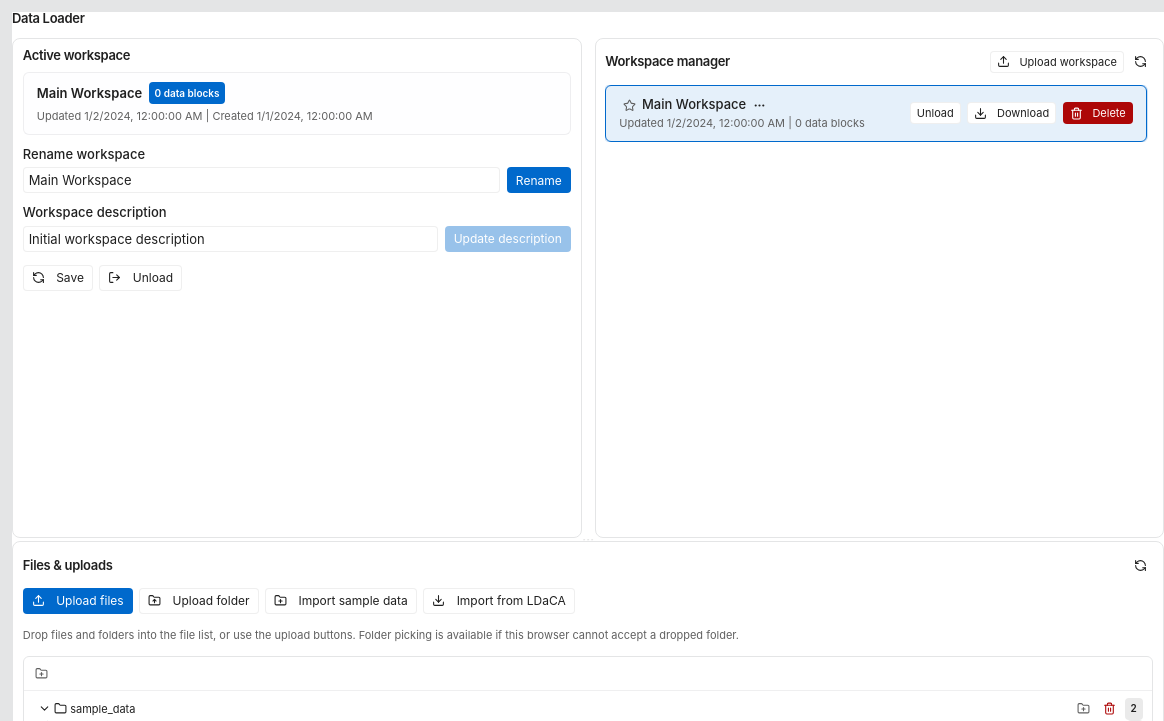
Test: DataLoaderFeature citation UI › shows workspace description details from the manager
Check: the field showing "Initial workspace description" is shown, box [23,226,438,252]
Press the mouse on the button named "view workspace description" at (759, 105), box [750,95,769,115]
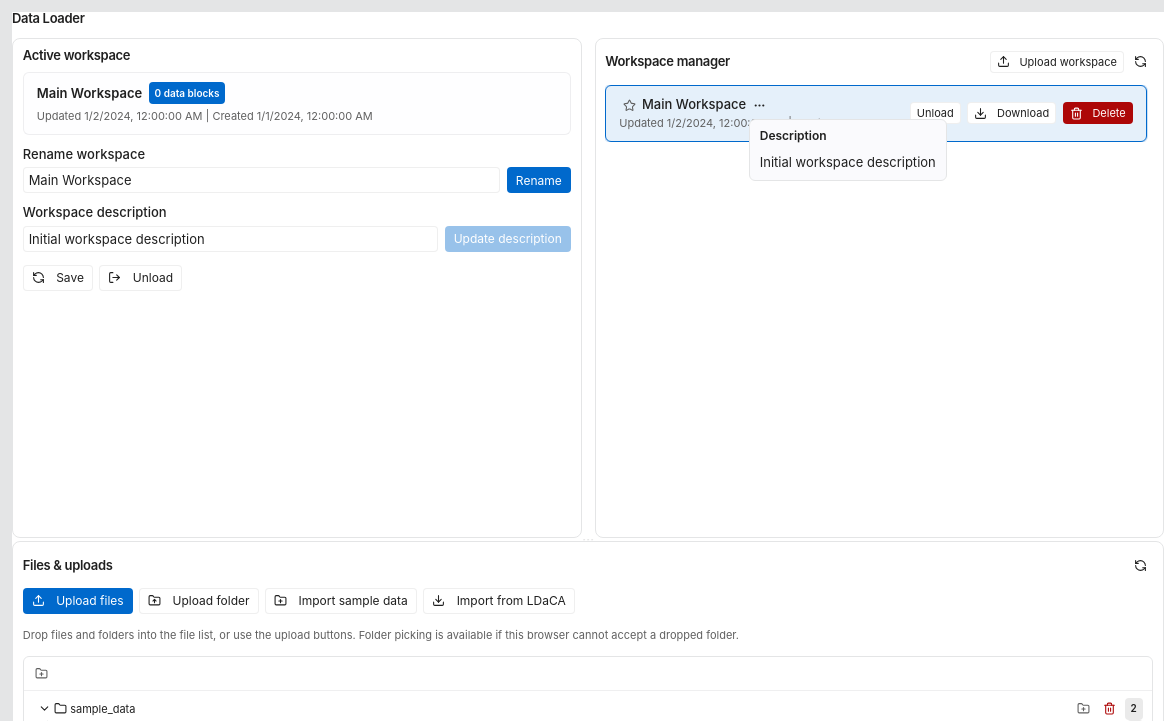
Check: the text "Initial workspace description" is shown, box [760,154,936,170]
